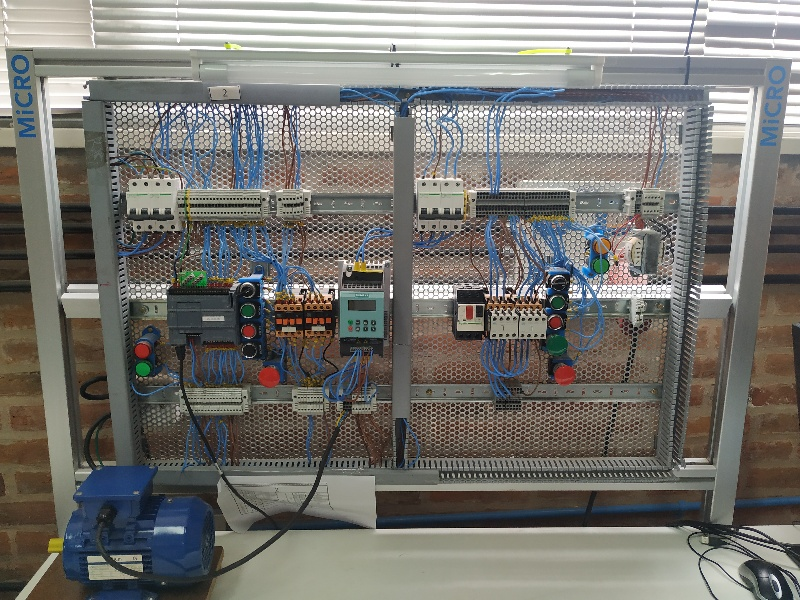Tablero 2: (94, 94, 682, 476)
